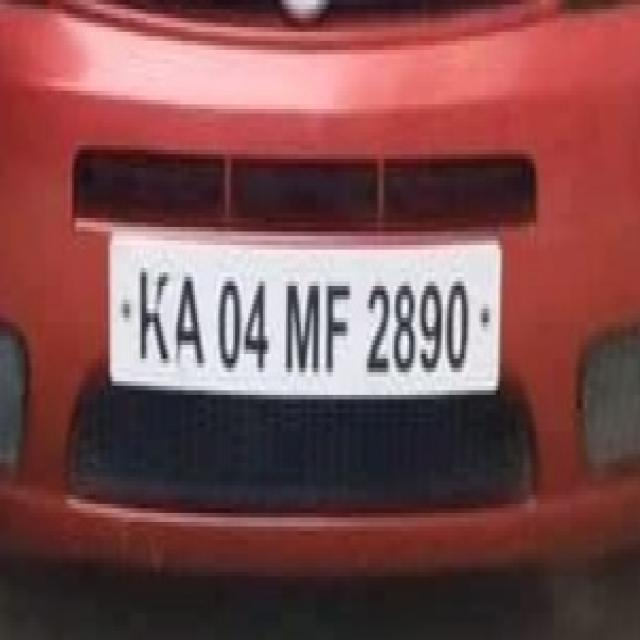0: (442, 255, 472, 382), (212, 261, 245, 374)
4: (245, 268, 272, 379)
8: (394, 274, 420, 380)
9: (418, 276, 443, 380)
A: (172, 262, 206, 378)
F: (323, 278, 352, 380)
K: (130, 246, 172, 375)
M: (280, 258, 322, 378)
